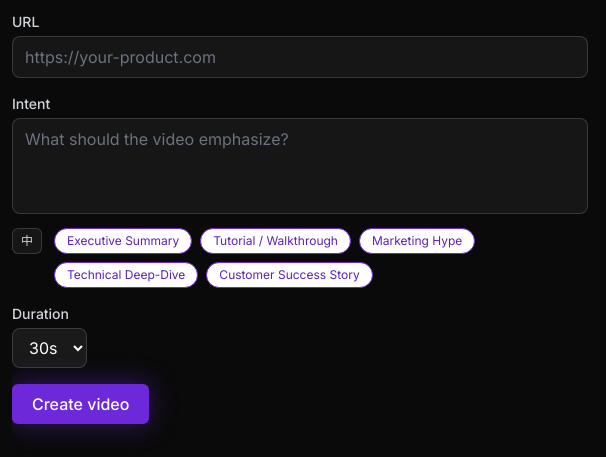
Scenario: JobForm › disables submit while pending
Type "https://x.com" into the field labelled "URL" at (300,57), box [12,36,588,78]
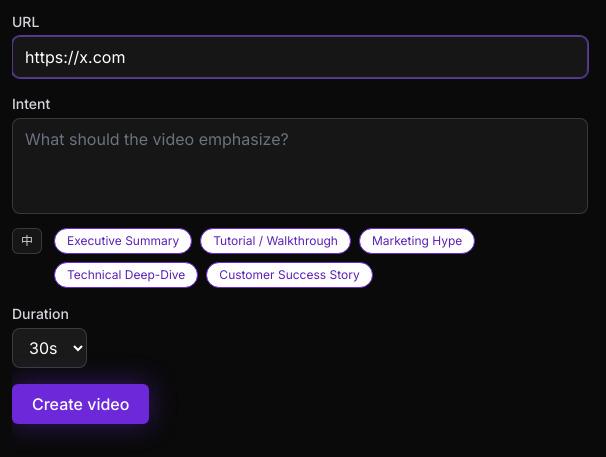
Type "x" into the text box labelled "Intent" at (300,166), box [12,118,588,214]
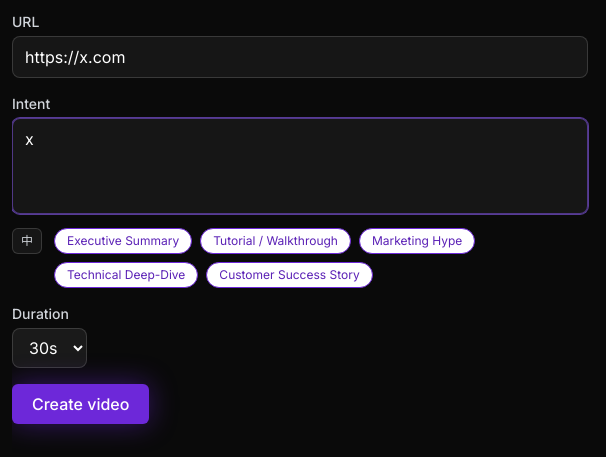
Click the button "Create video" at (81,404), box [12,384,149,424]
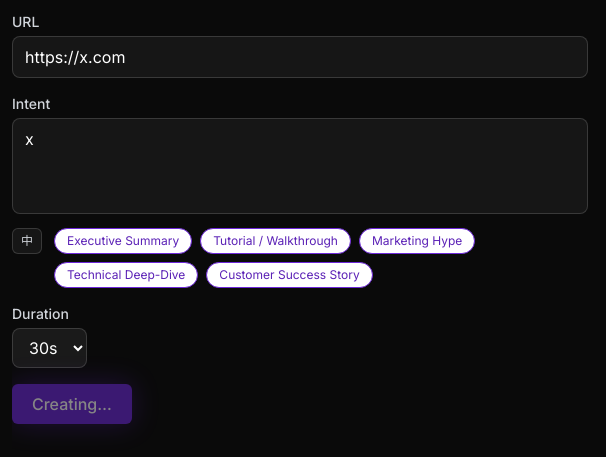
Check: the button "Creating…" is disabled, box [12,384,132,424]
